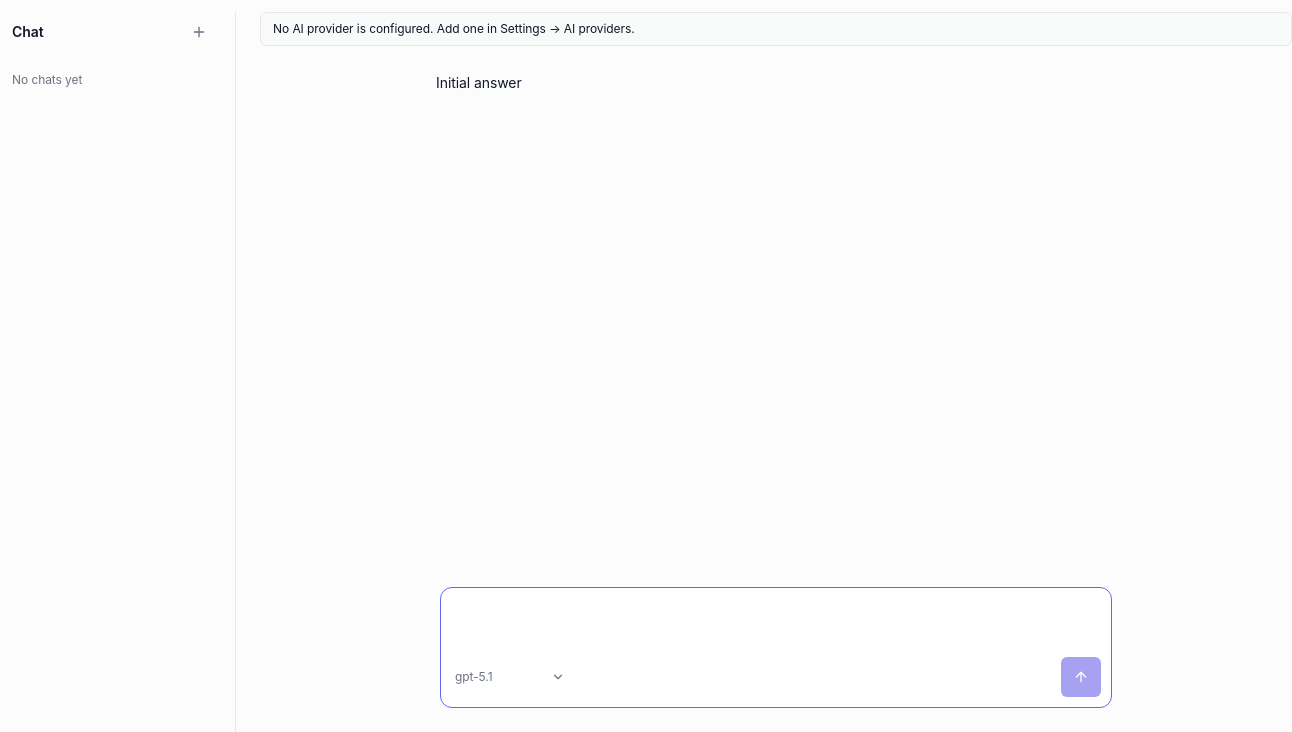
Scenario: ChatSurface › updates streaming content inside the shadcn message scroller
Type "tick" into the text box named "Chat message". click: (776, 620)
box: [441,588,1111,652]
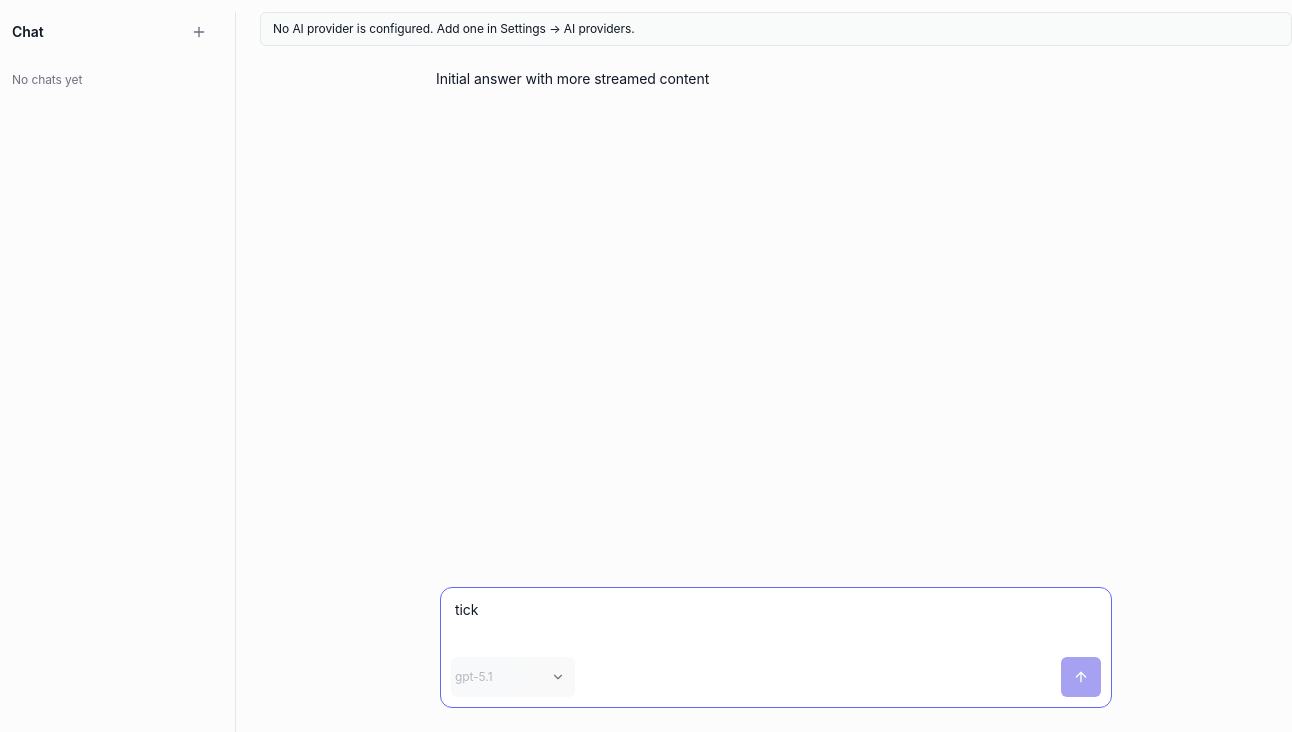
Check: the text "Initial answer with more streamed content" is shown, box [436,67,709,91]
